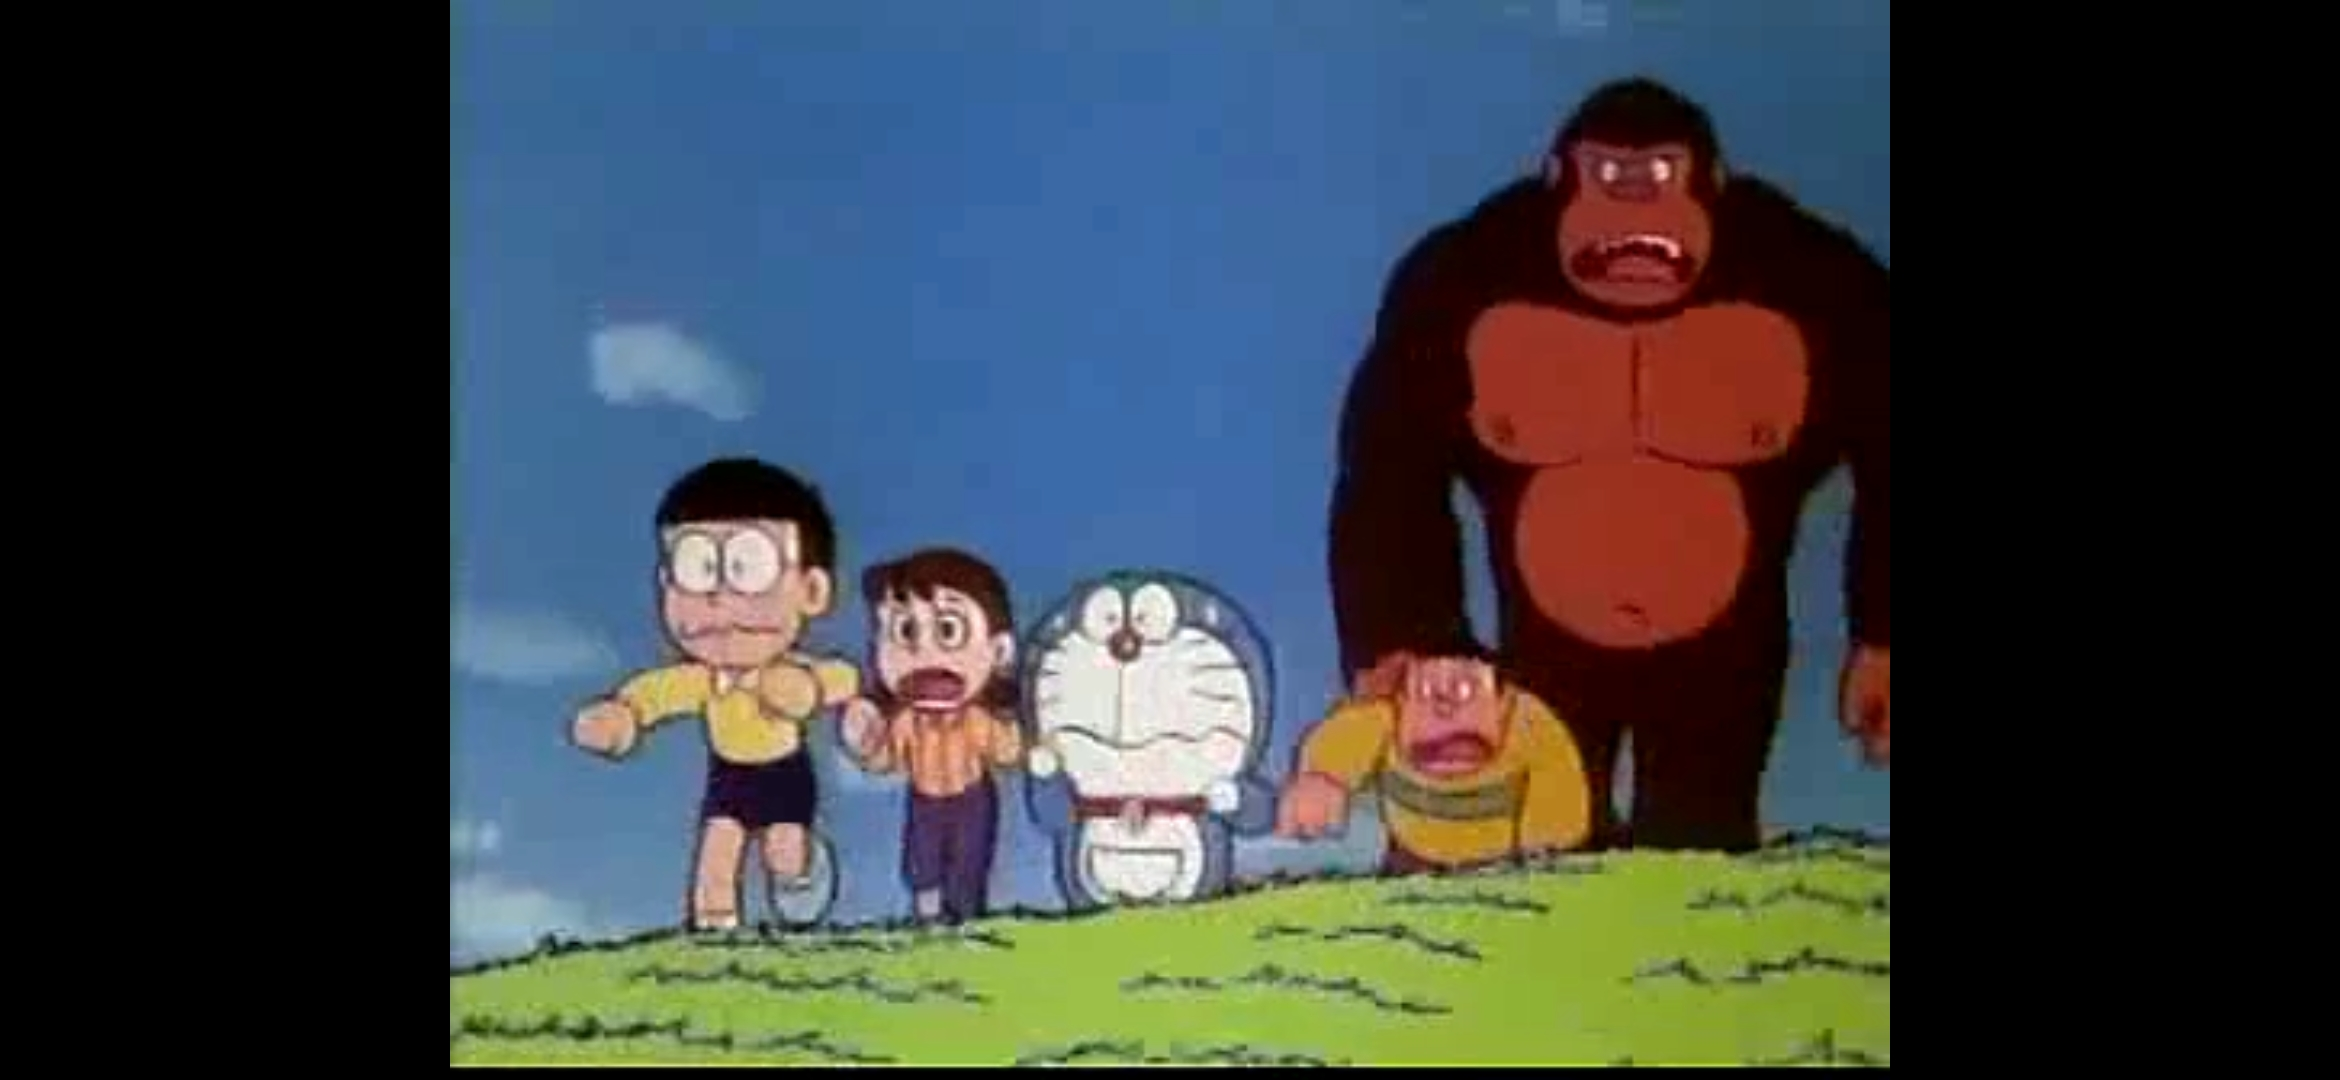Doraemon: (1016, 571, 1274, 829)
Nobi: (654, 456, 834, 667)
Shizuka: (860, 547, 1010, 707)
Takeshi: (1395, 632, 1510, 777)
